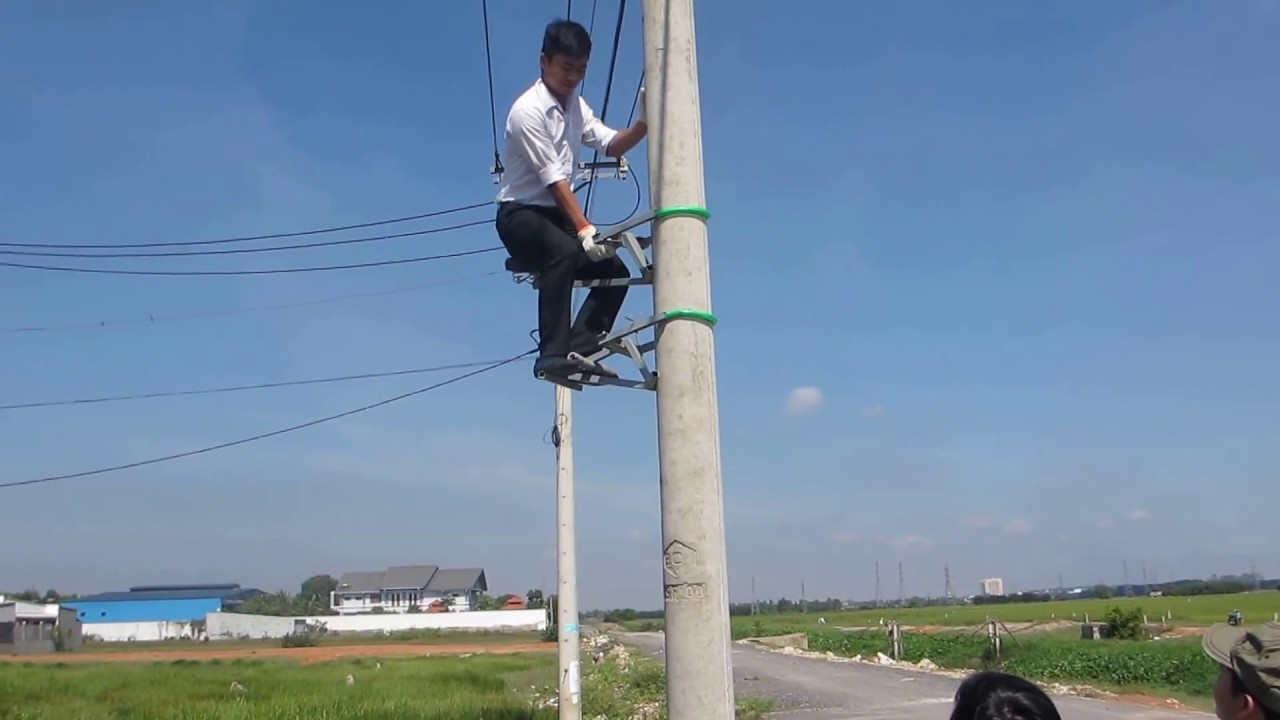infiltrator: (493, 17, 652, 401)
